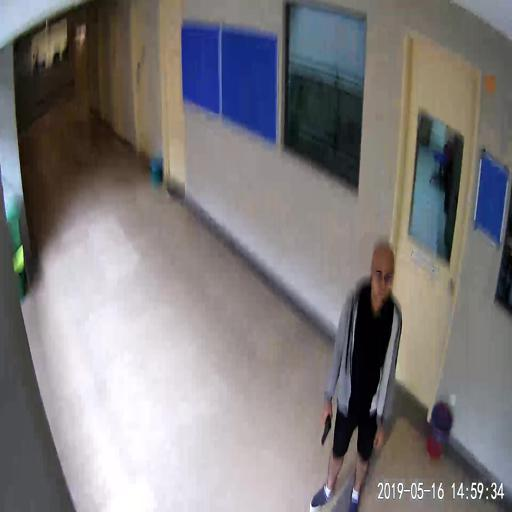pistol: (321, 412, 332, 446)
